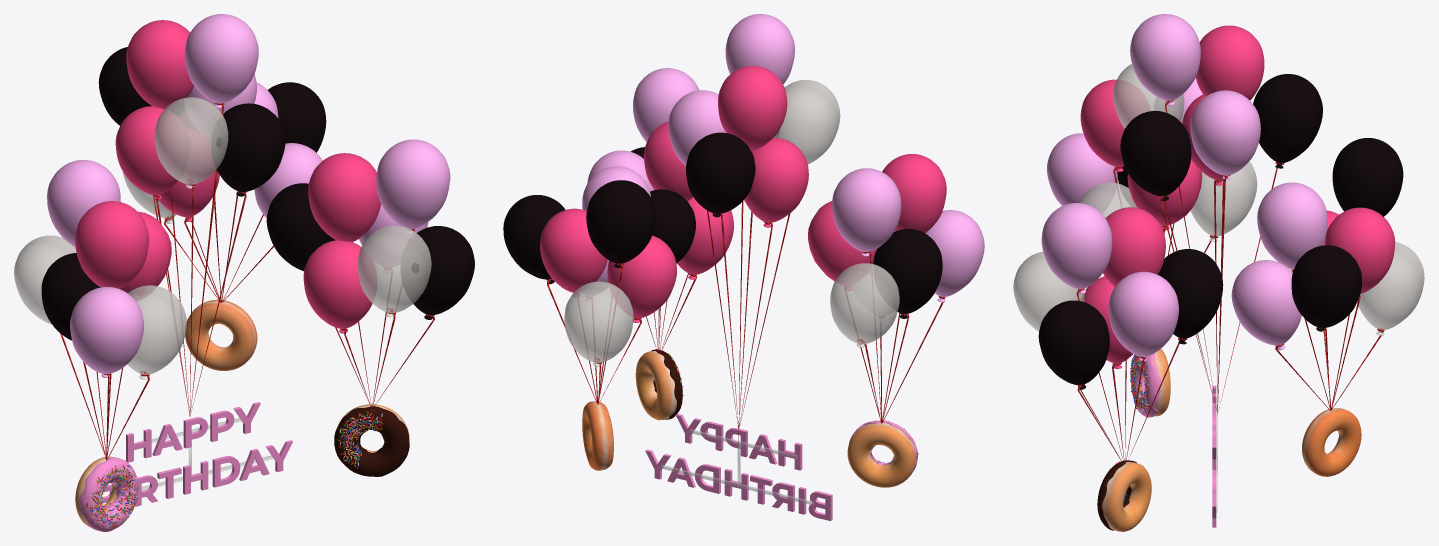
Rendered from donut.glb.
3 renders of one model, left to right at view 1: azimuth 30°, elevation 25°; view 2: azimuth 150°, elevation 25°; view 3: azimuth 270°, elevation 25°, orthographic. The views are drawn at different scales.
Parts seen in each view (by area): view 1: Curve.001, Balloon.011, Balloon.023, Balloon.007, Balloon.004, Balloon.027, Balloon.010, Balloon.022, Balloon.012, Balloon.024, Balloon.006, Balloon.003 (+22 smaller); view 2: Curve.001, Balloon.014, Balloon.020, Balloon.005, Balloon.019, Balloon.025, Balloon.002, Balloon.028, Balloon.022, Balloon.021, Balloon.015, Balloon.024 (+20 smaller); view 3: Balloon.023, Balloon.011, Balloon.027, Balloon.026, Balloon.007, Balloon.008, Balloon.025, Balloon.018, Balloon.017, Balloon.013, Balloon.020, Balloon.028 (+23 smaller).
Boxes of the visible parts, x1=… form: Curve.001: x1=102, y1=402, x2=292, y2=506; Balloon.011: x1=376, y1=139, x2=450, y2=233; Balloon.023: x1=184, y1=14, x2=258, y2=108; Balloon.007: x1=401, y1=226, x2=474, y2=319; Balloon.004: x1=75, y1=201, x2=149, y2=288; Balloon.027: x1=211, y1=103, x2=285, y2=196; Balloon.010: x1=357, y1=225, x2=431, y2=317; Balloon.022: x1=115, y1=106, x2=188, y2=199; Balloon.012: x1=303, y1=240, x2=376, y2=333; Balloon.024: x1=154, y1=97, x2=228, y2=188; Balloon.006: x1=308, y1=153, x2=380, y2=242; Balloon.003: x1=70, y1=287, x2=143, y2=377; Curve.001: x1=645, y1=413, x2=832, y2=521; Balloon.014: x1=832, y1=168, x2=901, y2=256; Balloon.020: x1=586, y1=180, x2=655, y2=268; Balloon.005: x1=873, y1=229, x2=942, y2=318; Balloon.019: x1=564, y1=281, x2=633, y2=366; Balloon.025: x1=686, y1=132, x2=755, y2=217; Balloon.002: x1=830, y1=263, x2=899, y2=347; Balloon.028: x1=718, y1=66, x2=787, y2=150; Balloon.022: x1=744, y1=138, x2=808, y2=227; Balloon.021: x1=540, y1=208, x2=607, y2=296; Balloon.015: x1=607, y1=235, x2=676, y2=322; Balloon.024: x1=773, y1=80, x2=840, y2=164; Balloon.023: x1=1130, y1=14, x2=1200, y2=105; Balloon.011: x1=1041, y1=203, x2=1112, y2=293; Balloon.027: x1=1120, y1=111, x2=1191, y2=200; Balloon.026: x1=1190, y1=90, x2=1260, y2=180; Balloon.007: x1=1038, y1=300, x2=1109, y2=389; Balloon.008: x1=1108, y1=271, x2=1178, y2=361; Balloon.025: x1=1253, y1=74, x2=1322, y2=168; Balloon.018: x1=1291, y1=245, x2=1361, y2=331; Balloon.017: x1=1257, y1=182, x2=1327, y2=269; Balloon.013: x1=1231, y1=260, x2=1301, y2=350; Balloon.020: x1=1332, y1=138, x2=1403, y2=216; Balloon.028: x1=1195, y1=25, x2=1264, y2=100.
Size of the model in its own units: 0.5532 by 0.7119 by 0.5282.
Materials: 16 (3 with a texture image).
